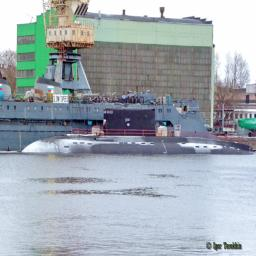submarine: (23, 111, 251, 154)
